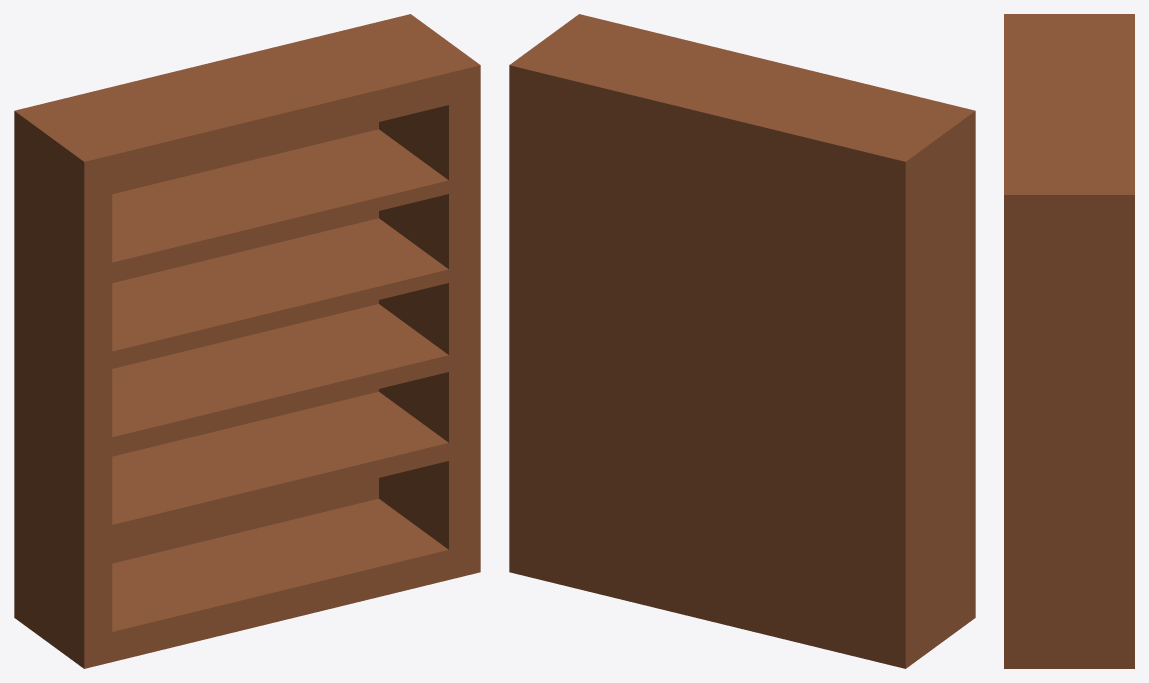
Rendered from Shelf_2.fbx.
3 views of the same model, side by side, from view 1: azimuth 30°, elevation 25°; view 2: azimuth 150°, elevation 25°; view 3: azimuth 270°, elevation 25° (orthographic). The views are drawn at different scales.
Parts seen in each view (by area): view 1: Cube.071; view 2: Cube.071; view 3: Cube.071.
Part boxes in pixels (x1,y1,x2,y2): Cube.071: (14,14,480,668); Cube.071: (509,14,975,668); Cube.071: (1004,14,1134,668).
Bounding box in the file's own units: 180 × 220 × 55.
